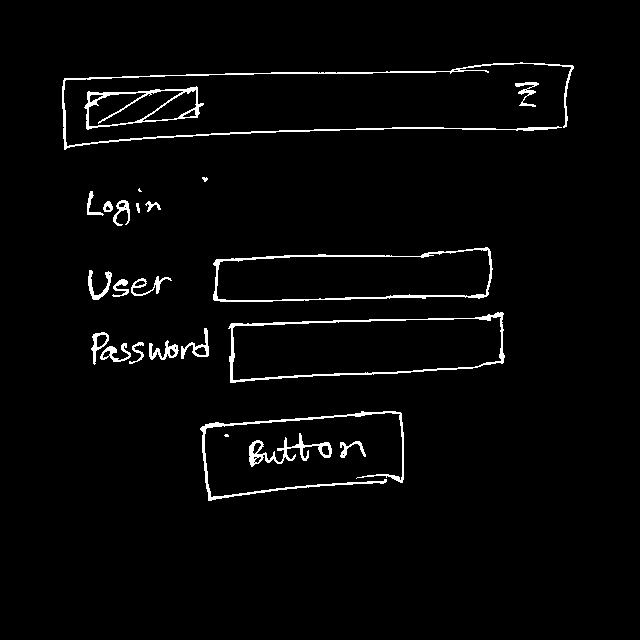button: (195, 417, 413, 497)
input: (228, 313, 507, 382), (211, 244, 492, 302)
navbar: (61, 63, 576, 150)
